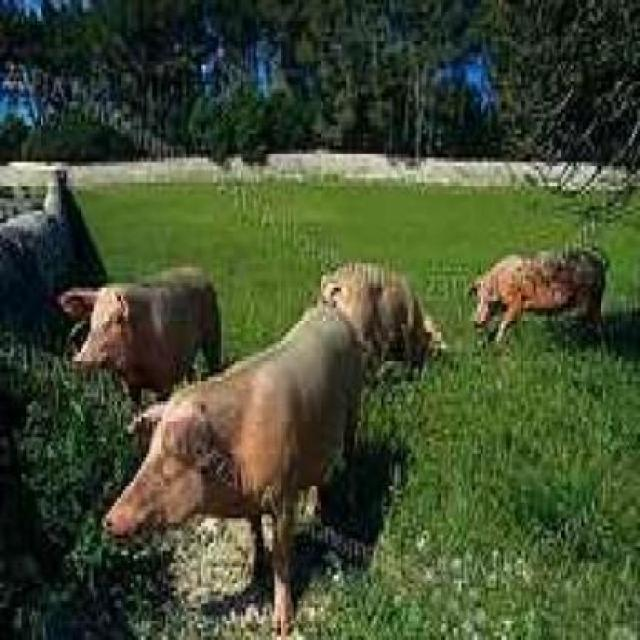Boar: (79, 302, 410, 602), (53, 224, 247, 398), (443, 226, 640, 371)
